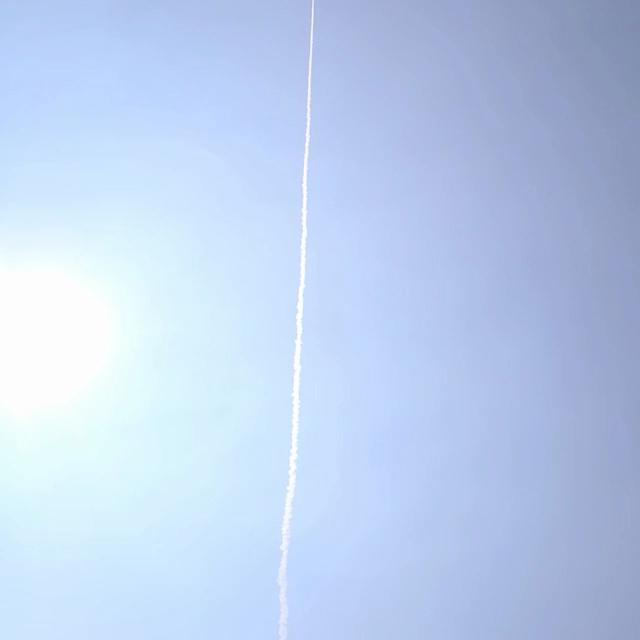smoke_trail_no_rocket: (277, 125, 310, 640)
